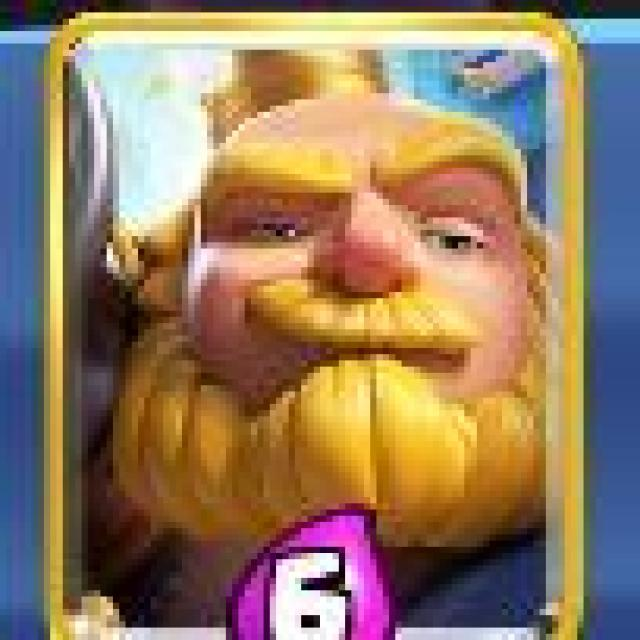Royal_Giant: (48, 13, 580, 640)
